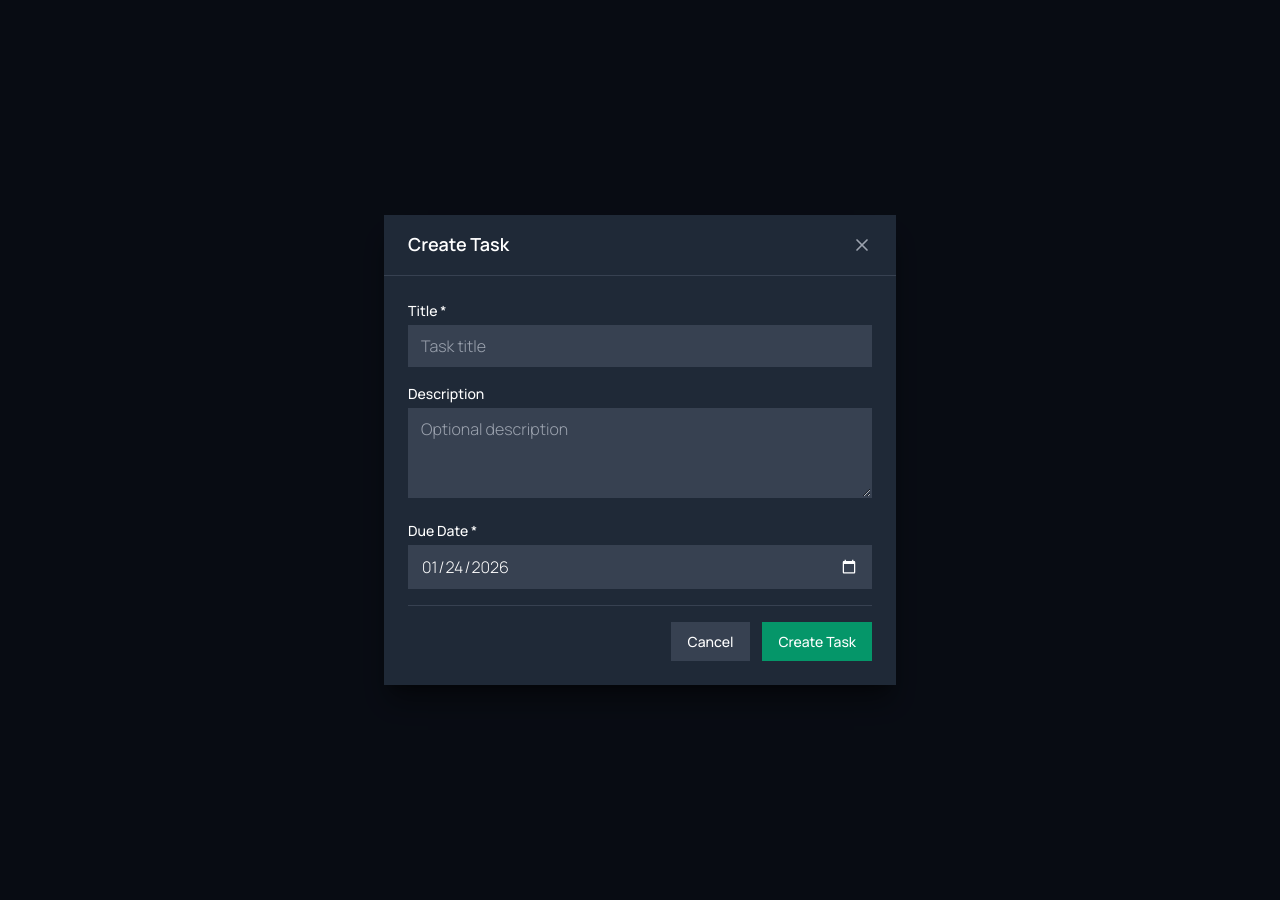
Test: CreateTaskModal › form validation › shows error when title is empty
Note: Submit without filling title
Click the button "Create Task" at x=817, y=642, box [762,622,872,661]
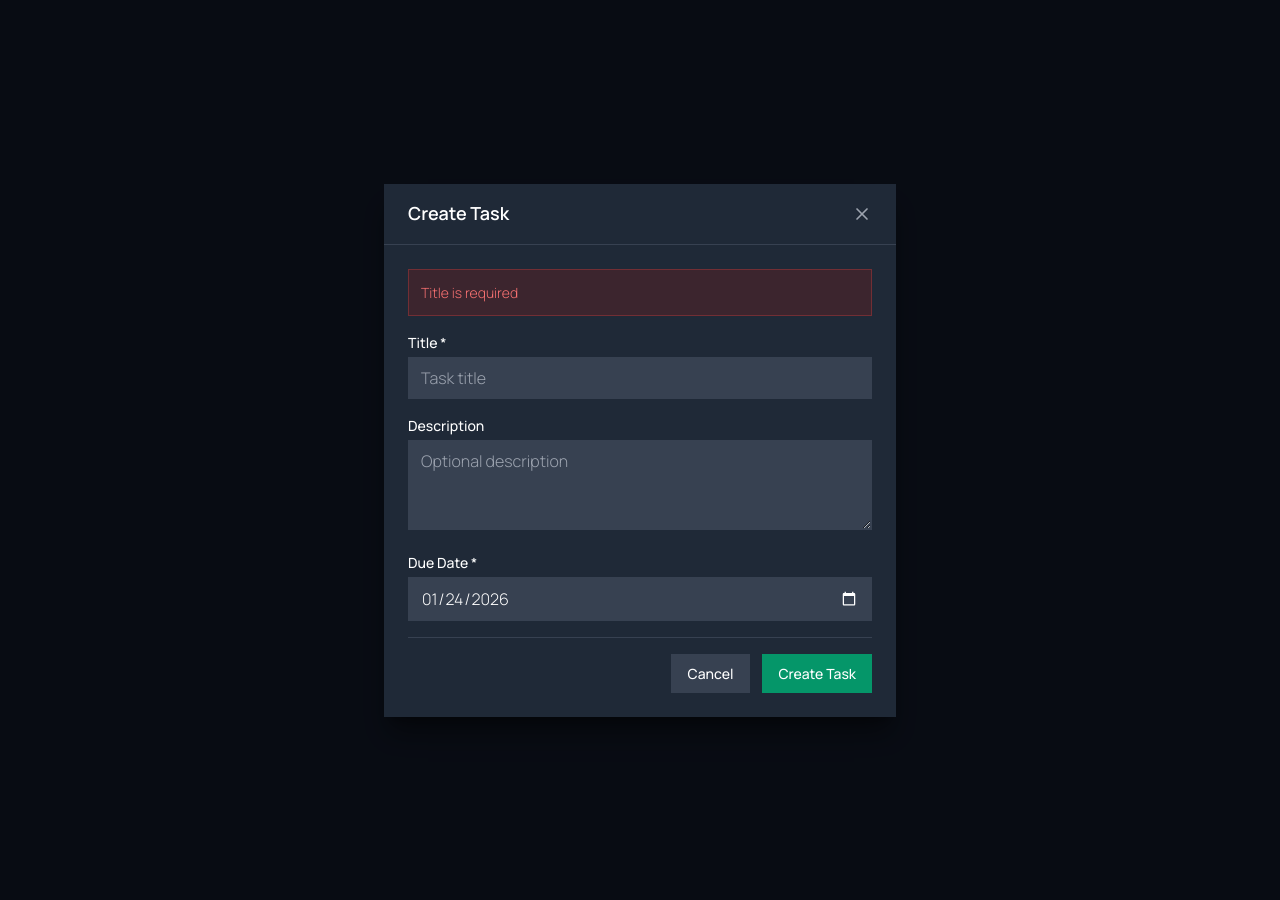
Result: the text "Title is required" is shown at [408,268,872,316]
